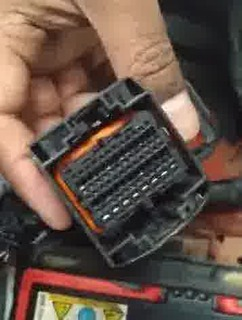connector: (28, 76, 208, 270)
